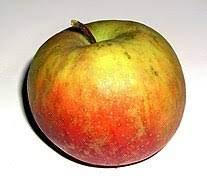Apple: (25, 14, 190, 171)
